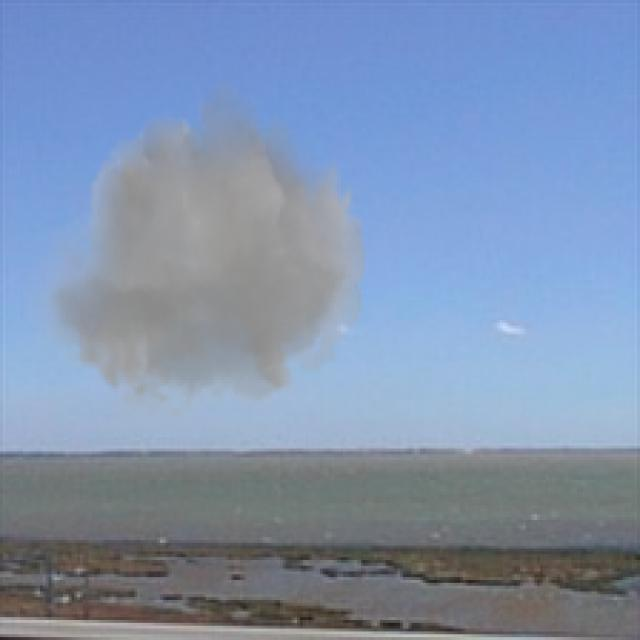Smoke: (19, 72, 374, 437)
